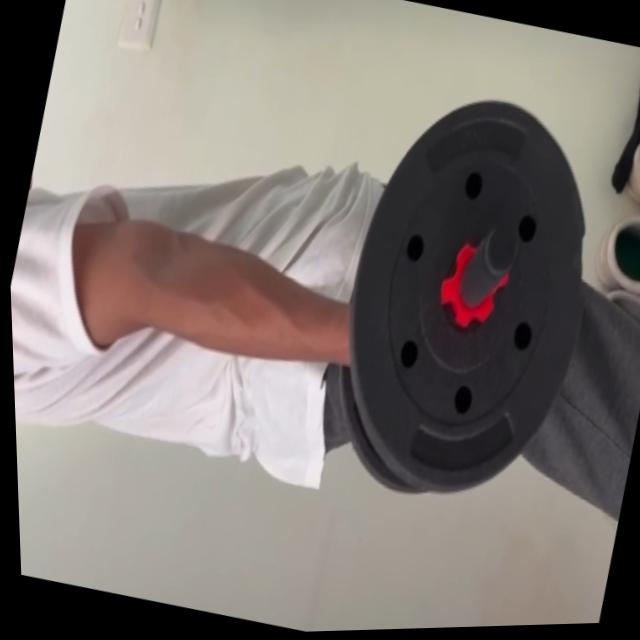dumbbell: (300, 74, 630, 528)
